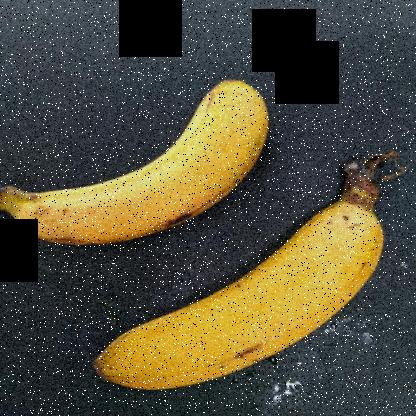freshripe: (87, 200, 397, 393), (0, 76, 287, 240)
